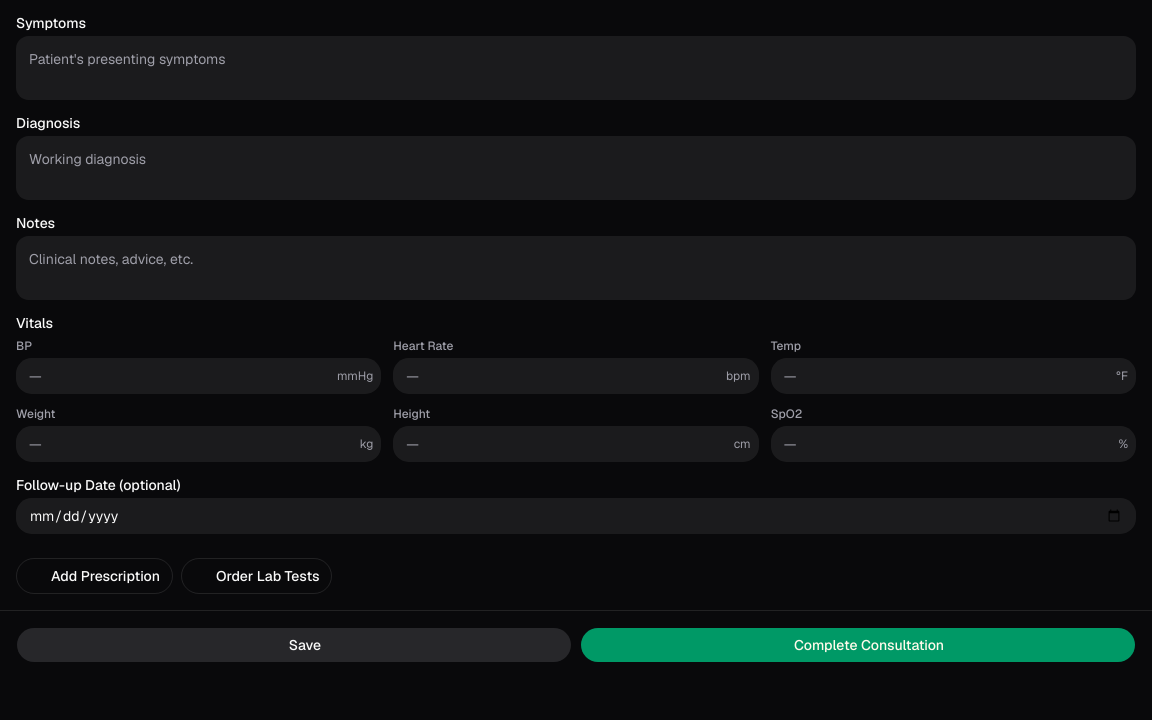
Scenario: ConsultationForm › shows error when save fails
Click the button "Save".
click(294, 645)  # box [16,627,572,663]
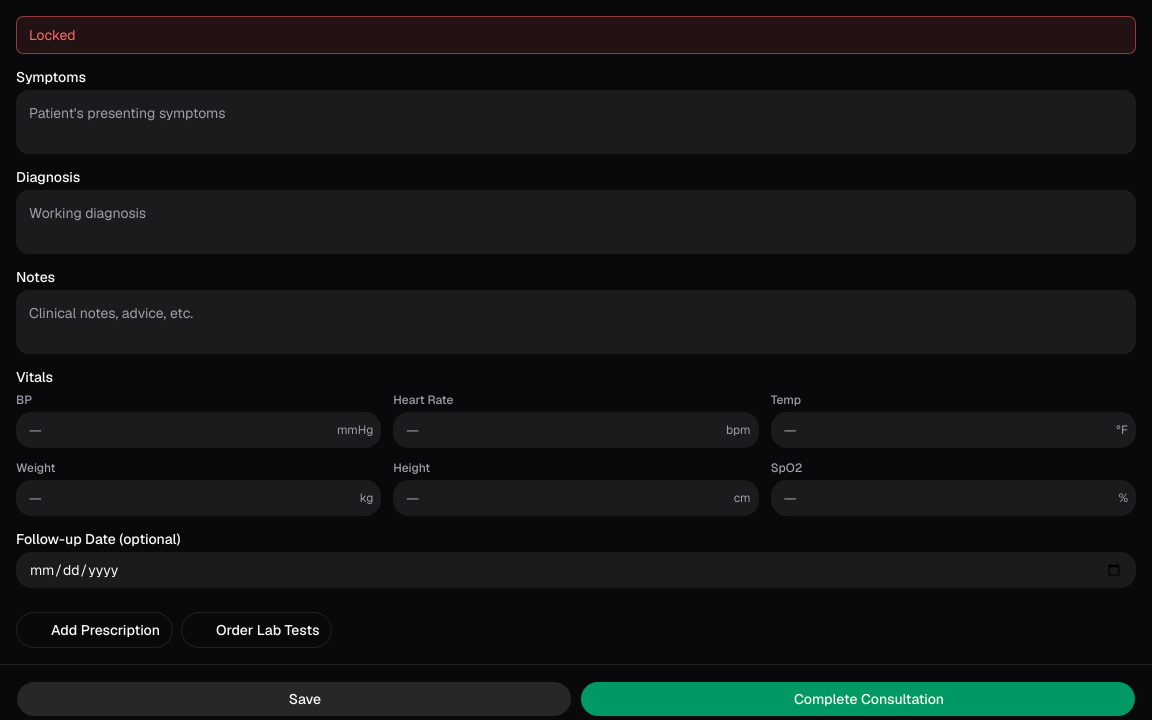
Expected: the text "Locked" is shown, [16,16,1136,54]
